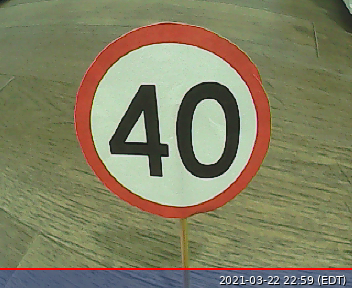Speed Limit 40: (72, 21, 272, 219)
